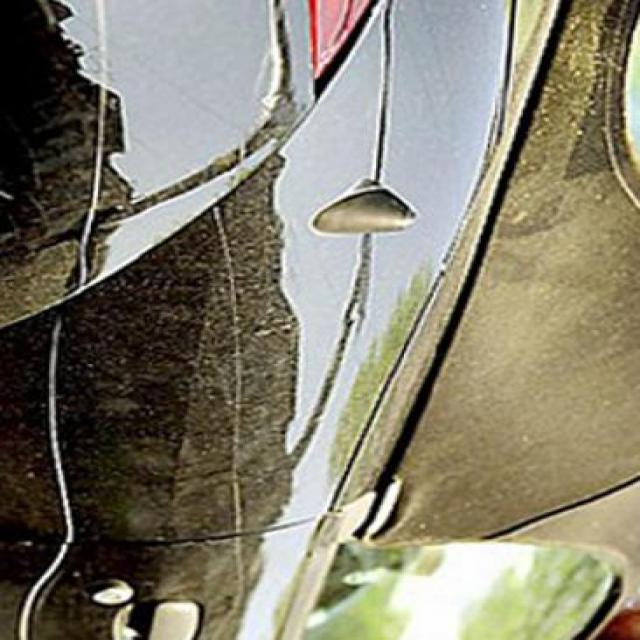scratch: (8, 324, 90, 640)
